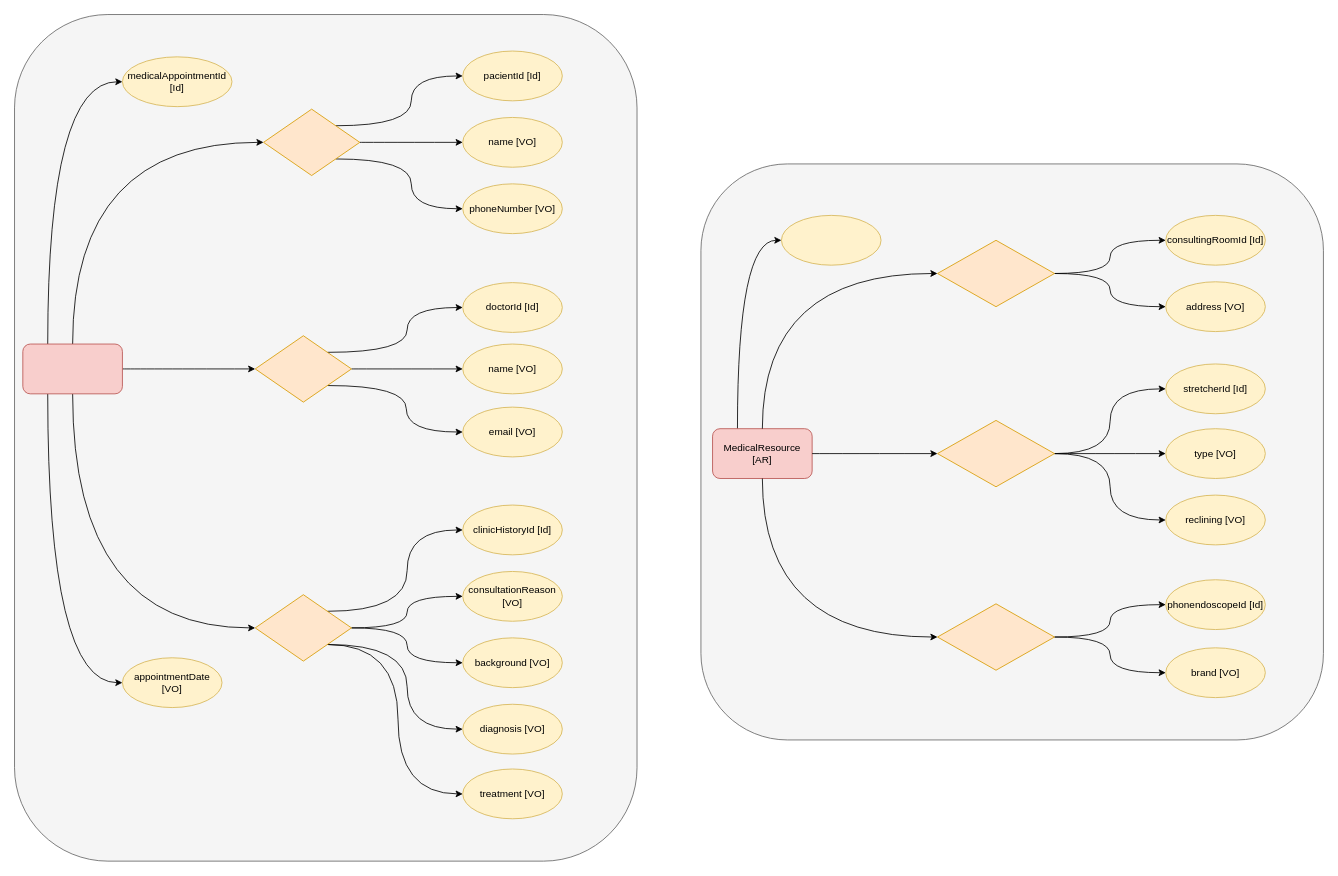
Image size: 1338x876. Some labels were removed from this diagram. The shapes that lost their labels are listed below. From the top down, each one's centre as x and y in pixels, then its label:
(x=311, y=142): Pacient [E]
(x=831, y=240): medicalResourceId [Id]
(x=996, y=273): ConsultingRoom [E]
(x=72, y=368): MedicalAppointment [AR]
(x=303, y=368): Doctor [E]
(x=996, y=453): Stretcher [E]
(x=303, y=627): ClinicHistory [E]
(x=996, y=636): Phonendoscope [E]
